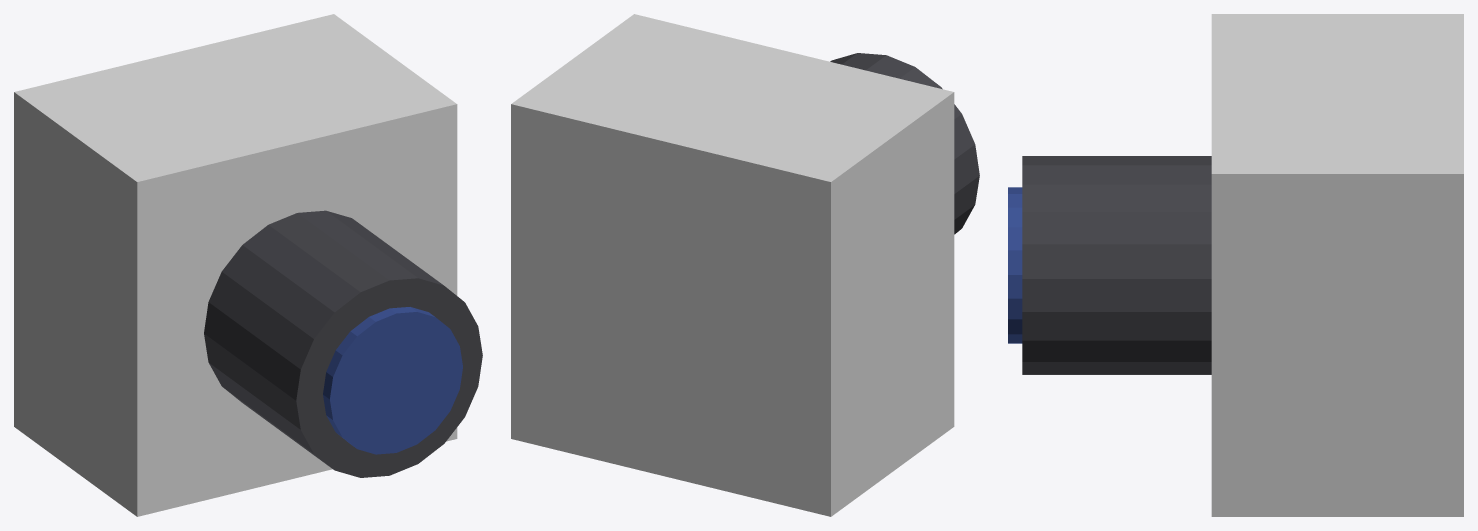
Rendered from ins_rgb.fbx.
3 views of the same model, side by side, from view 1: azimuth 30°, elevation 25°; view 2: azimuth 150°, elevation 25°; view 3: azimuth 270°, elevation 25° (orthographic). The views are drawn at different scales.
Parts seen in each view (by area): view 1: ins_rgb; view 2: ins_rgb; view 3: ins_rgb.
Part boxes in pixels (x1,y1,x2,y2): ins_rgb: [14, 14, 482, 516]; ins_rgb: [511, 14, 979, 516]; ins_rgb: [1008, 14, 1463, 516].
Size of the model in its own units: 0.12 by 0.12 by 0.1445.
